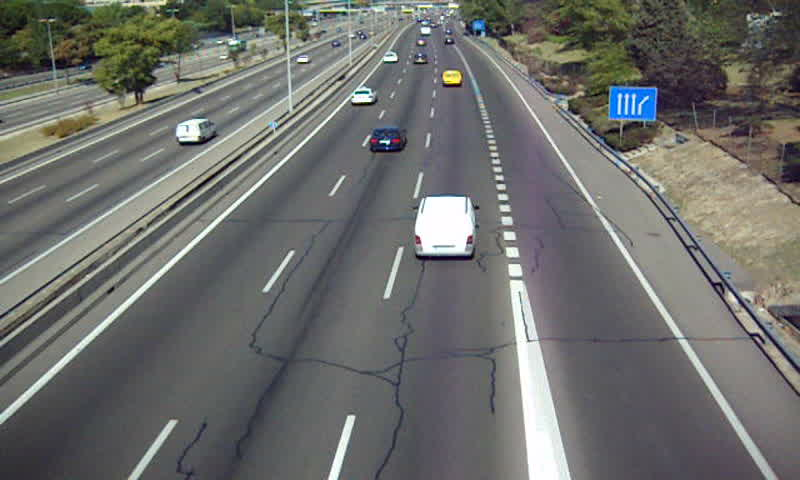car: (367, 127, 406, 152), (350, 87, 375, 104), (413, 51, 428, 66), (382, 50, 397, 62)
van: (414, 196, 478, 259), (441, 70, 463, 87)
